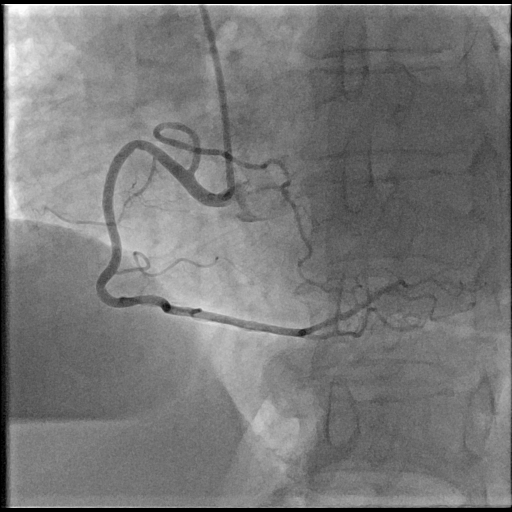RCA: (95, 123, 409, 340)
catherter: (199, 5, 235, 202)
